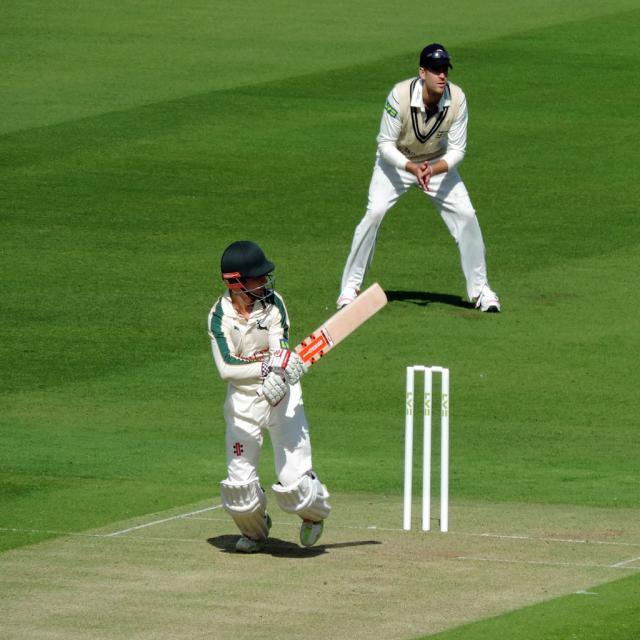stumps: (401, 358, 455, 536)
